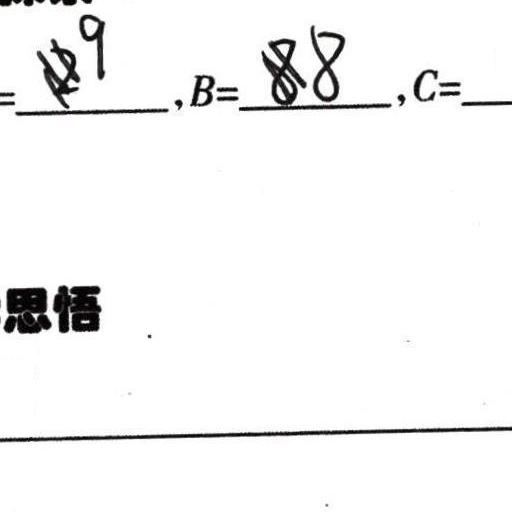ans: (308, 22, 346, 105), (77, 12, 108, 81)
